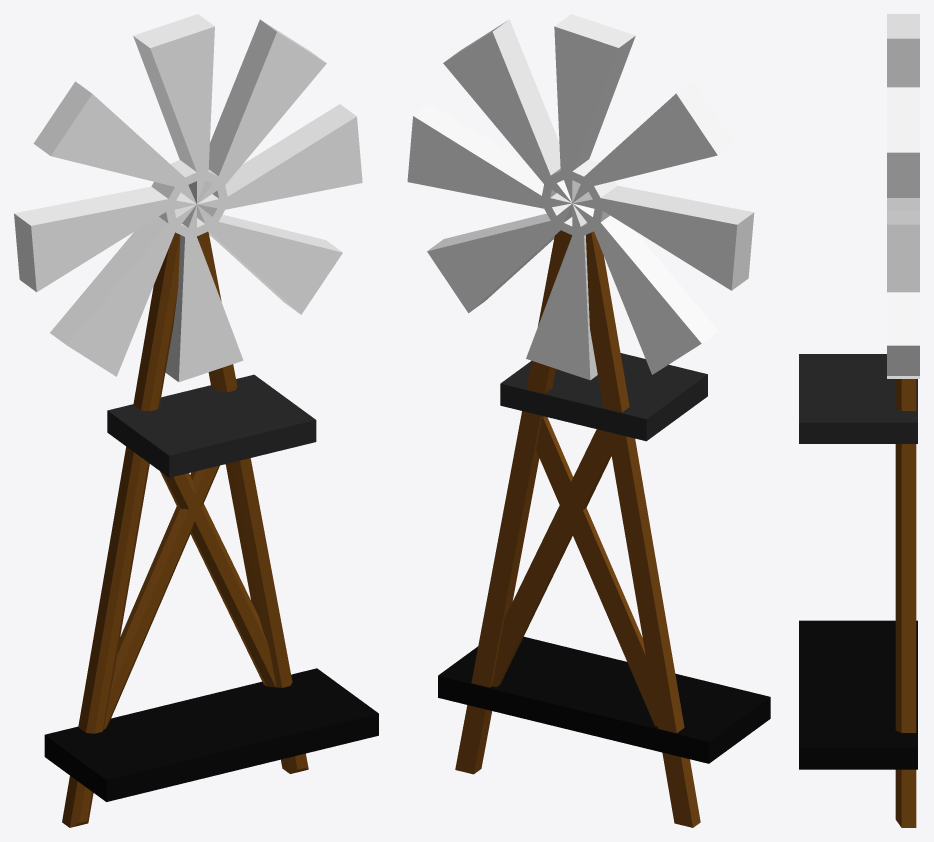
The model's file is WINDMILL.fbx.
3 renders of one model, left to right at view 1: azimuth 30°, elevation 25°; view 2: azimuth 150°, elevation 25°; view 3: azimuth 270°, elevation 25°, orthographic. The views are drawn at different scales.
Parts seen in each view (by area): view 1: Cube.002; view 2: Cube.002; view 3: Cube.002.
Boxes of the visible parts, x1,y1,x2,y2 form: Cube.002: [14, 14, 378, 827]; Cube.002: [407, 14, 770, 827]; Cube.002: [799, 14, 919, 827].
Bounding box in the file's own units: 2240 × 4993 × 736.
